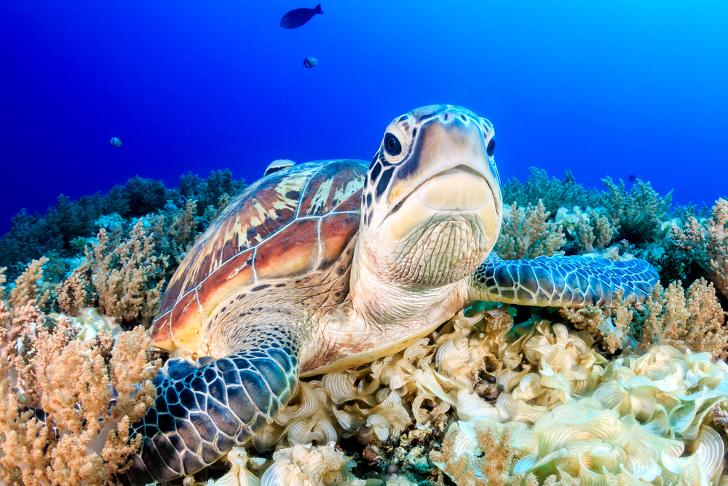turtle: (349, 91, 512, 299)
